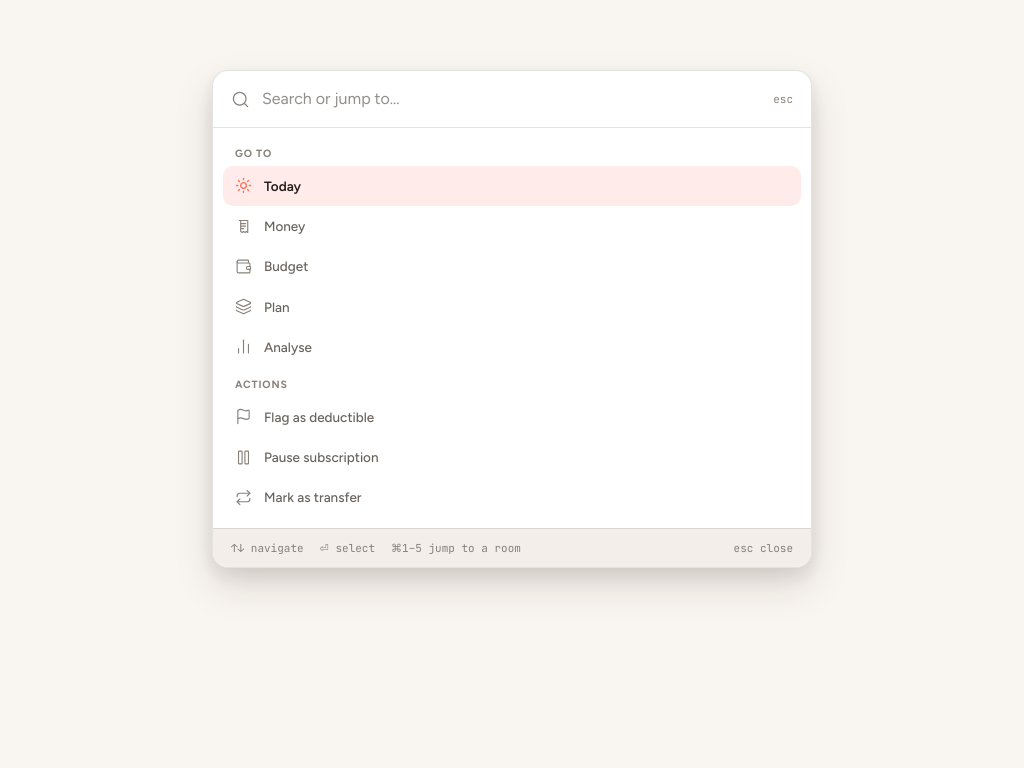
Test: CommandPalette › filters rows as the query changes
Type "mon" into the field named "Search or jump to a room" at [512, 99], box [262, 87, 761, 111]
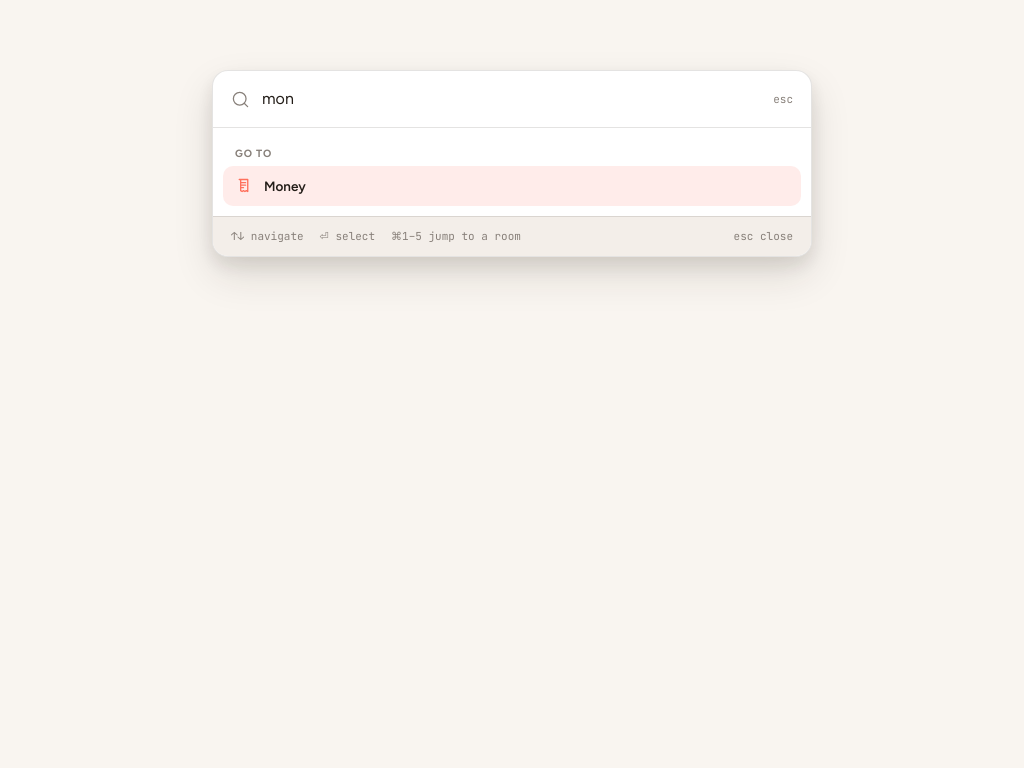
Expected: the text "Money" is shown, [264, 176, 306, 196]
Now the option "Today" is gone
